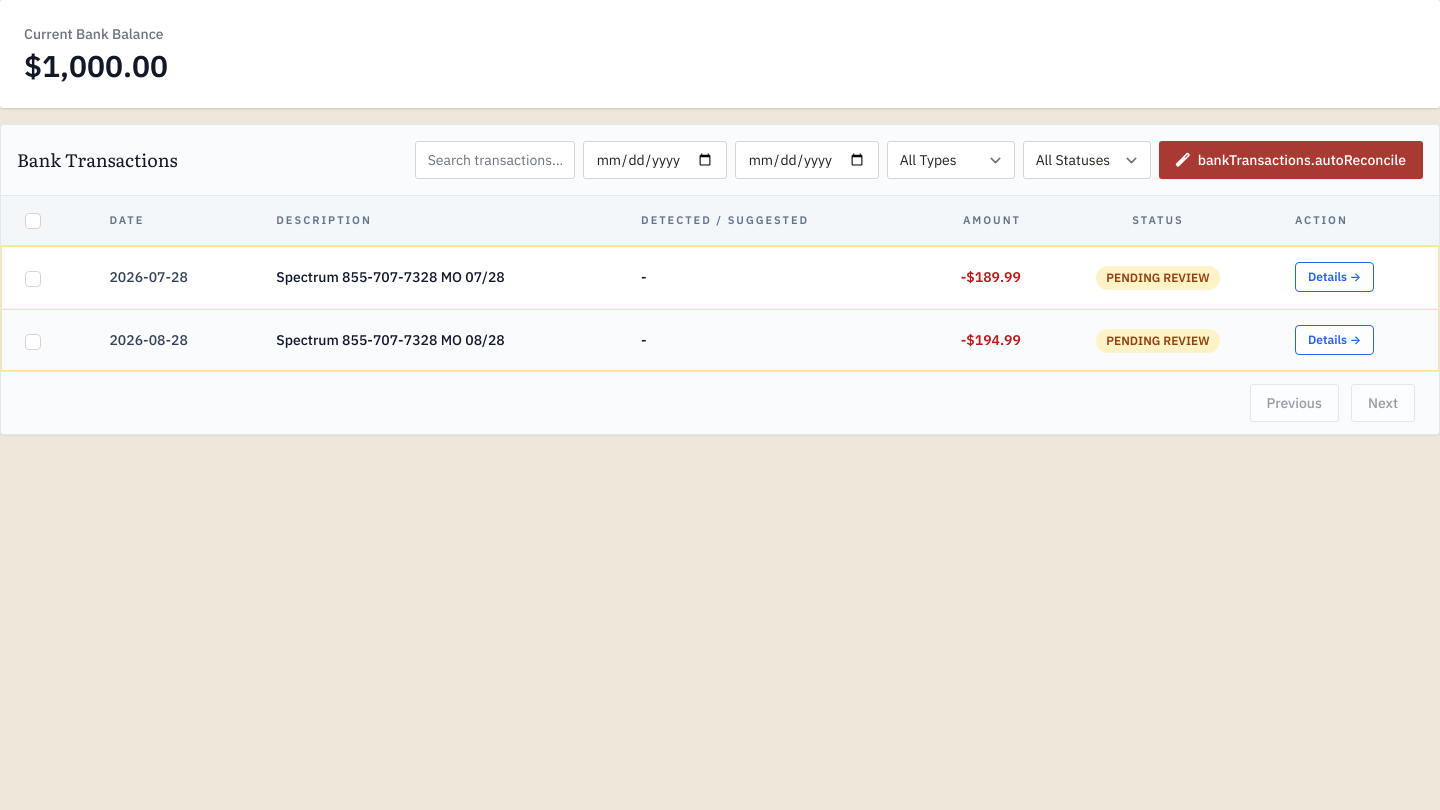
Test: Bulk expense modal › closes once the batch is recorded
This screenshot has width=1440, height=810.
expect the text "Spectrum 855-707-7328 MO 07/28" is shown: met, box [276,268,505,286]
Click the checkbox next to "2026-07-28": (33,279) [25,271,41,287]
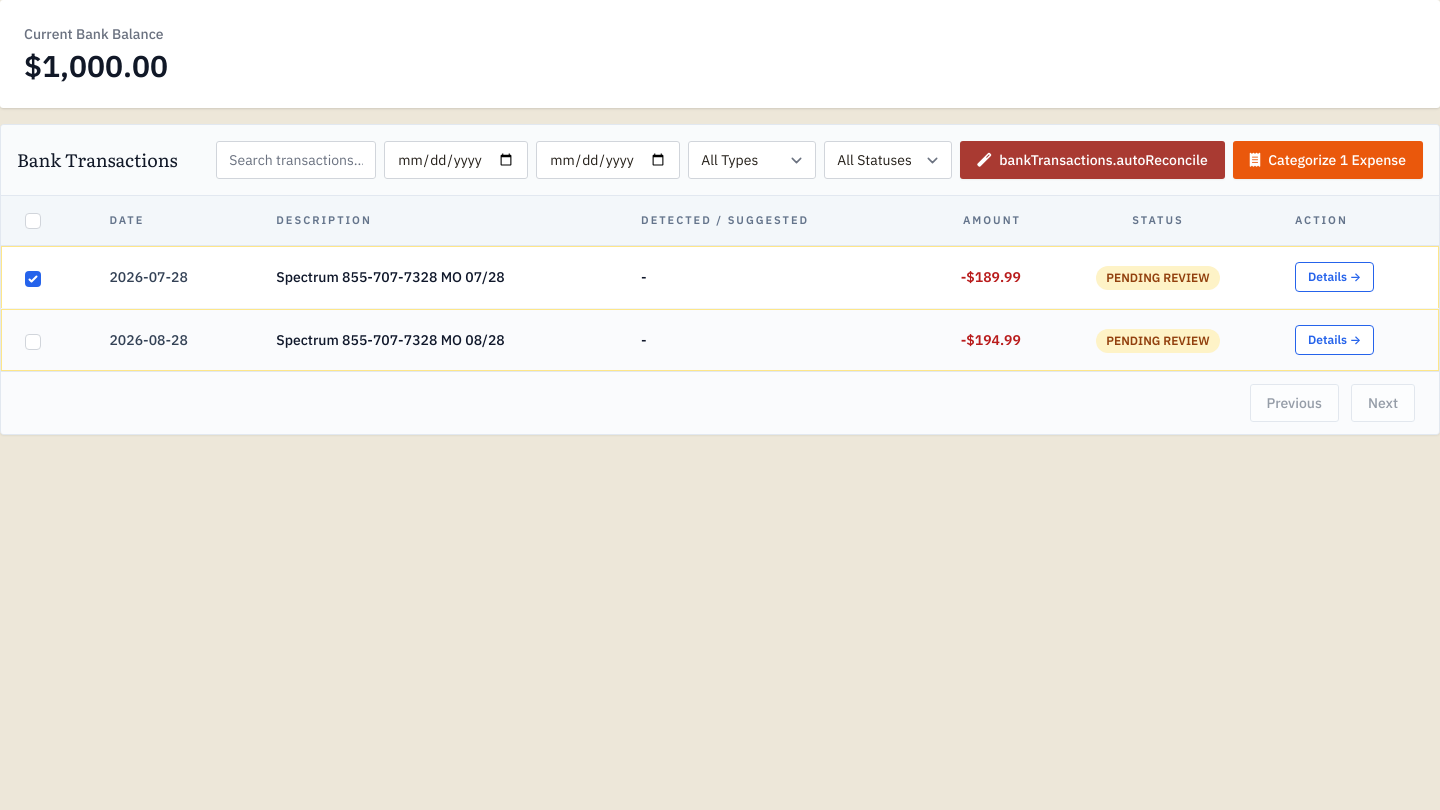
Click the checkbox next to "2026-08-28": (33,342) [25,334,41,350]
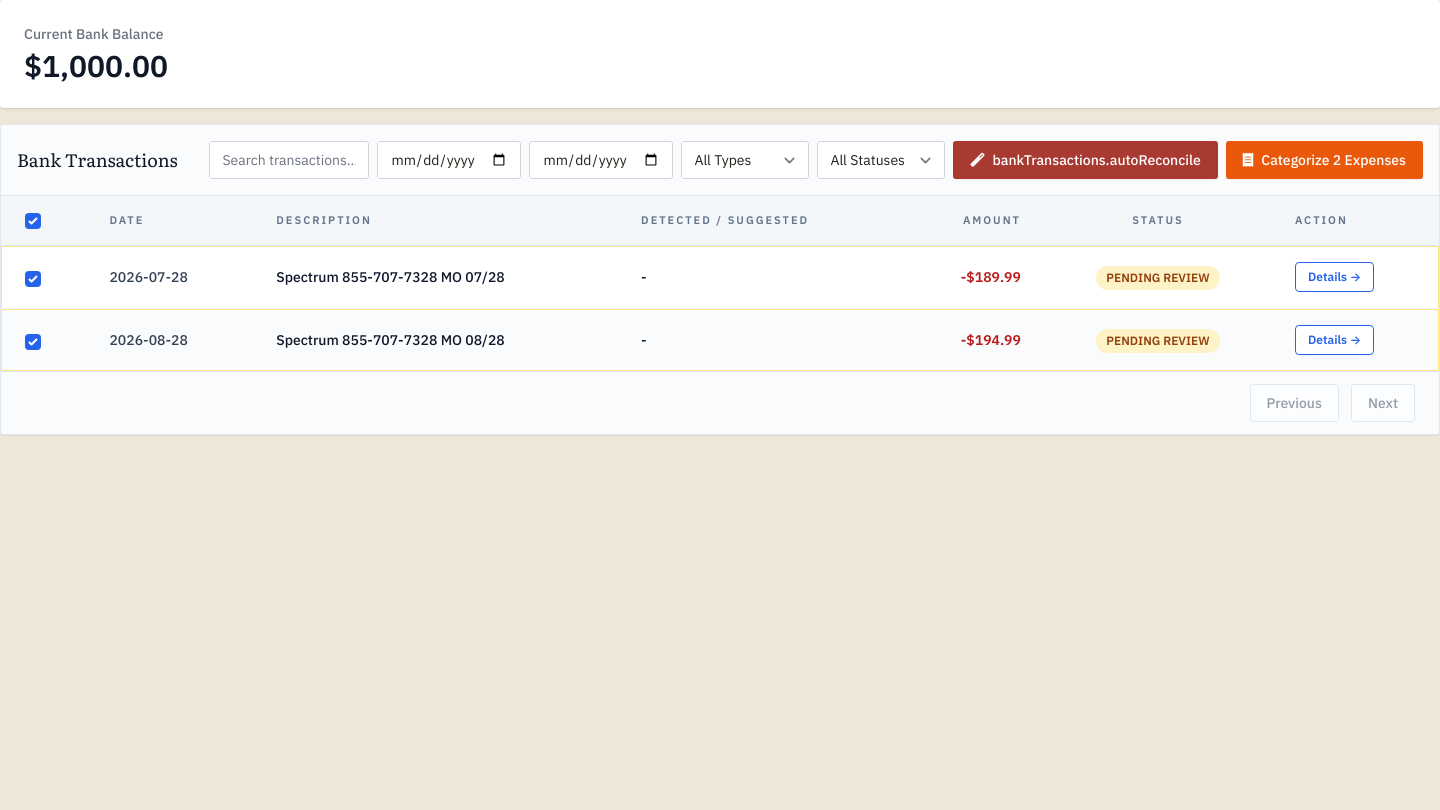
Click the button "Categorize 2 Expenses": (1324,160) [1226,141,1423,179]
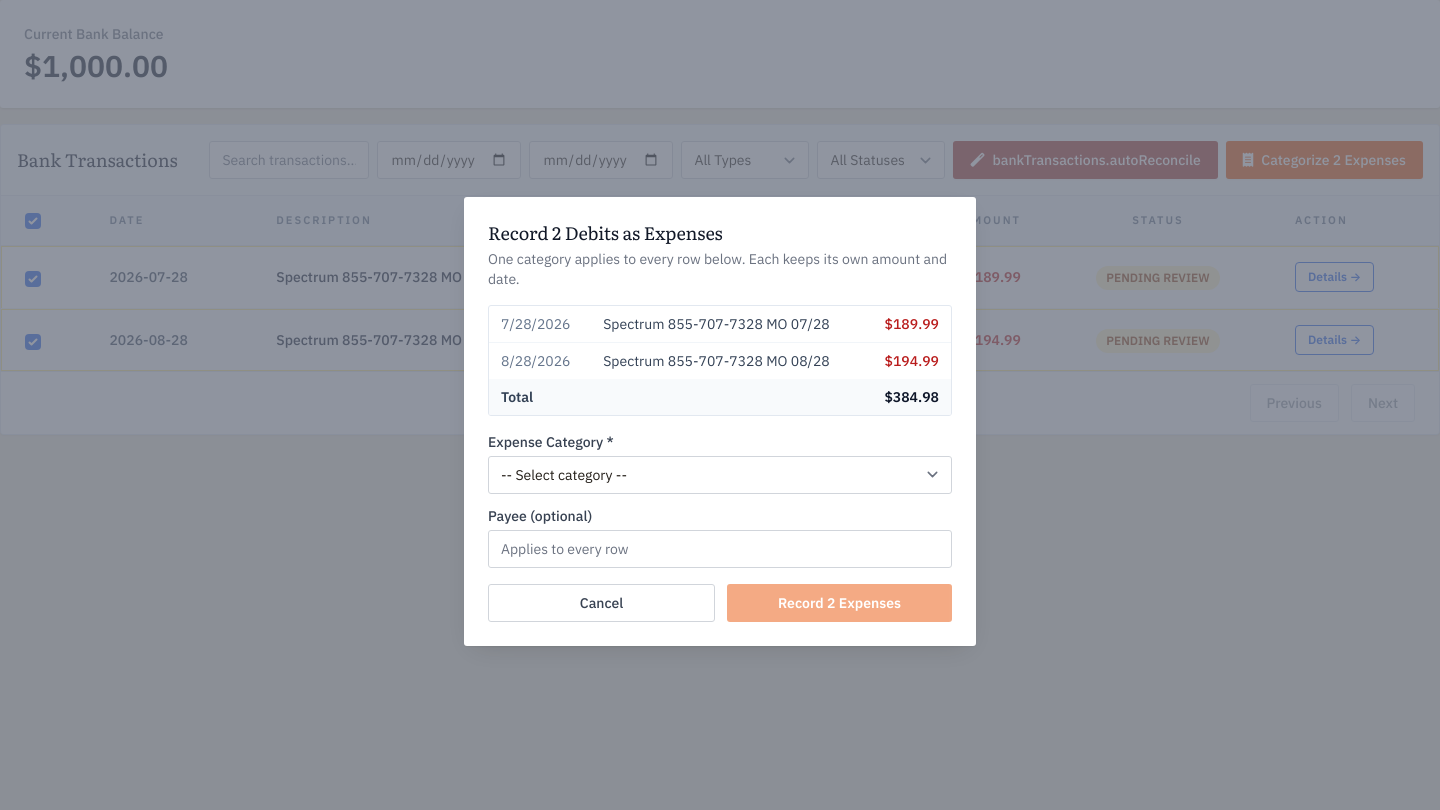
Select "Cable" in the dropdown labelled "Expense Category *": (720,474) [488,456,952,494]
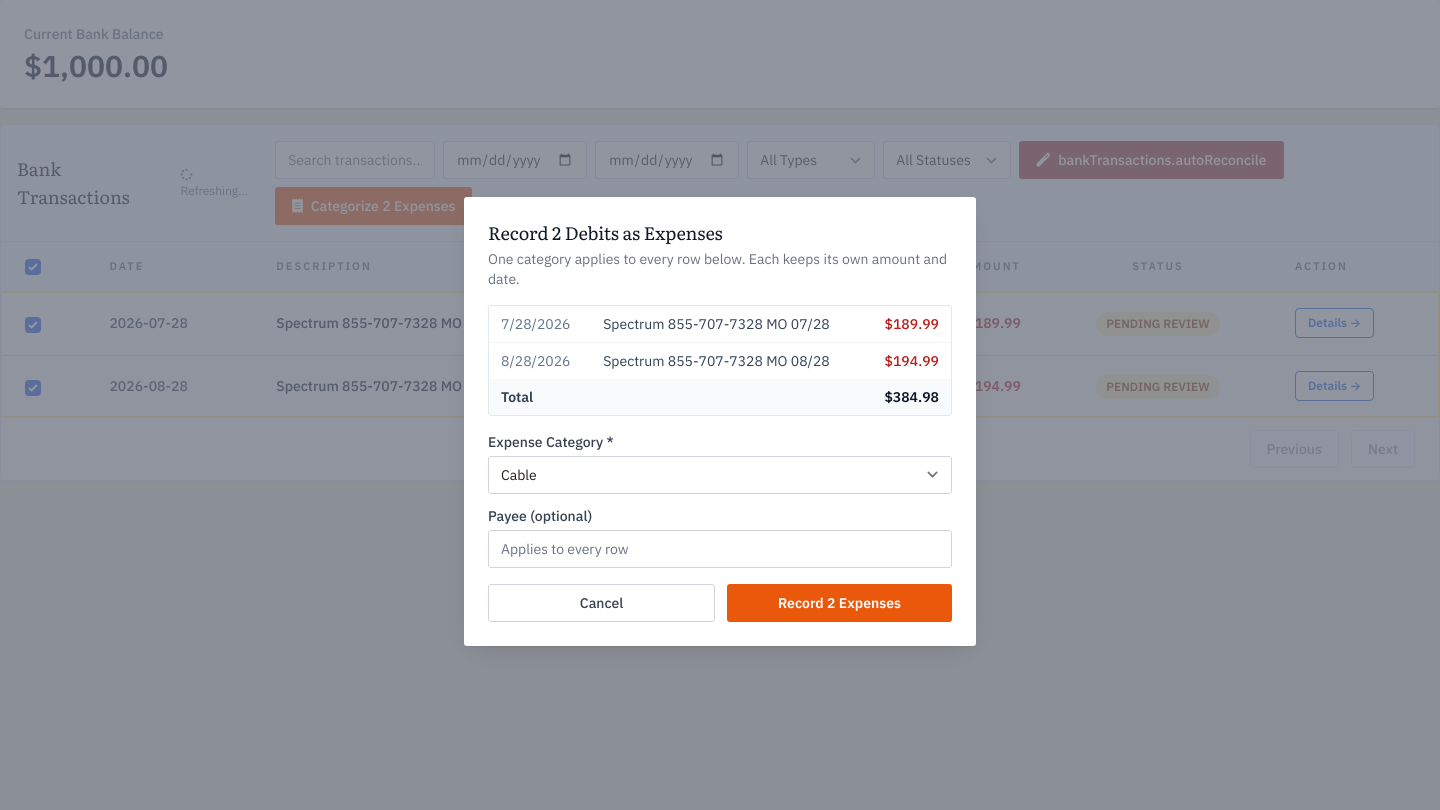
Click the button "Record 2 Expenses": (840,602) [727,584,952,622]
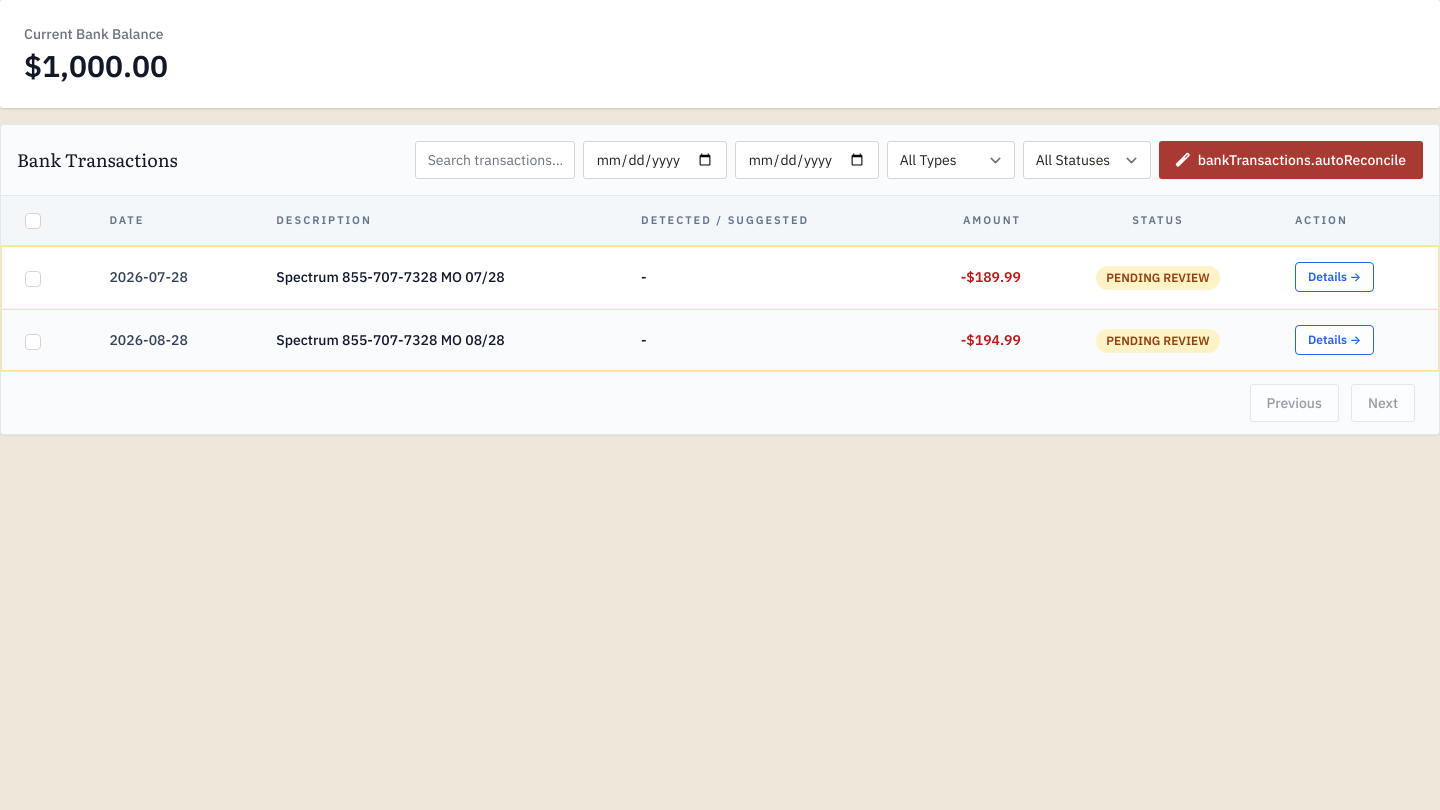
expect the heading "Record 2 Debits as Expenses" is gone: met
